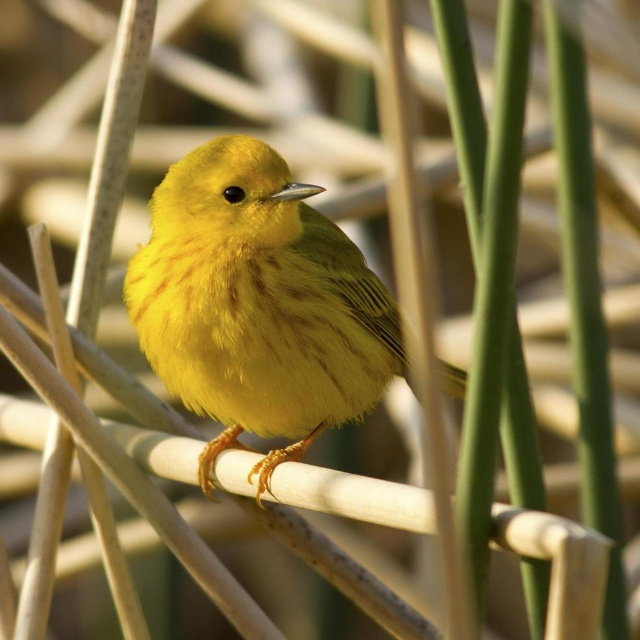Canary: (119, 134, 471, 508)
